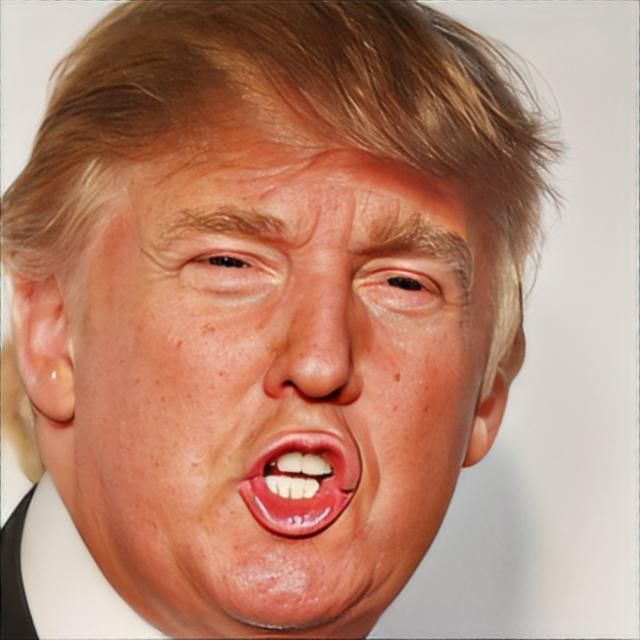anger: (78, 86, 490, 632)
